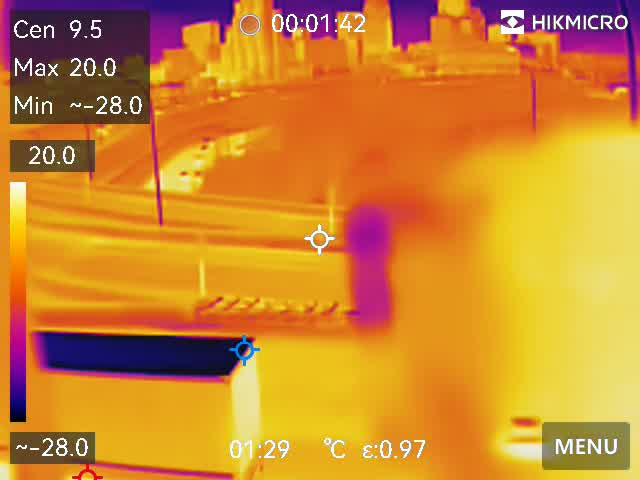heavyTruck: (24, 325, 284, 479)
